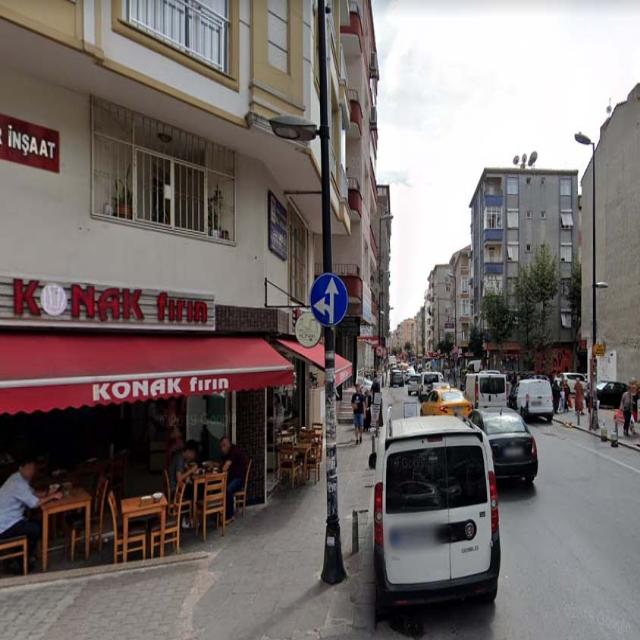ilerisol: (310, 272, 348, 326)
